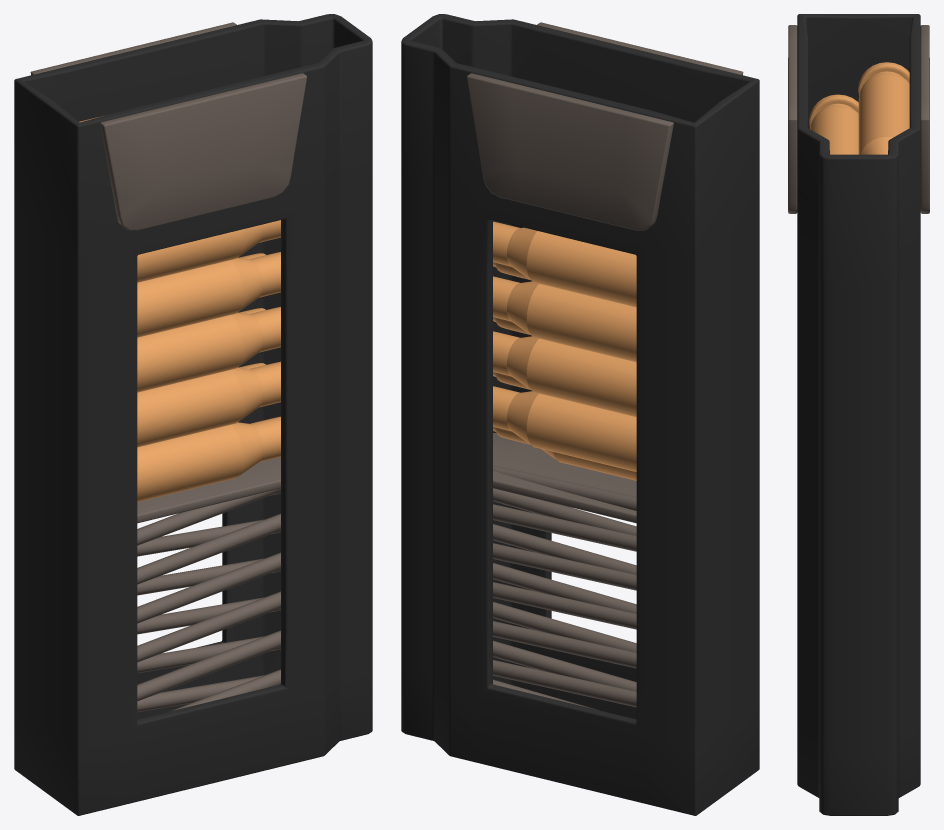
File: magazine_01.fbx
3 renders of one model, left to right at view 1: azimuth 30°, elevation 25°; view 2: azimuth 150°, elevation 25°; view 3: azimuth 270°, elevation 25°, orthographic. The views are drawn at different scales.
Visible parts, largest first — view 1: Cube.083, Circle.144, Cube.084, NurbsPath.001, Cube.085; view 2: Cube.083, Circle.144, NurbsPath.001, Cube.084, Cube.085; view 3: Cube.083, Circle.144, Cube.084.
Boxes of the visible parts, left/top/right/bottom form: Cube.083: left=14, top=14, right=372, bottom=815; Circle.144: left=79, top=115, right=280, bottom=502; Cube.084: left=30, top=22, right=306, bottom=230; NurbsPath.001: left=137, top=488, right=280, bottom=712; Cube.085: left=137, top=457, right=280, bottom=523; Cube.083: left=401, top=14, right=759, bottom=815; Circle.144: left=493, top=221, right=636, bottom=480; NurbsPath.001: left=493, top=465, right=636, bottom=709; Cube.084: left=467, top=22, right=743, bottom=230; Cube.085: left=493, top=432, right=636, bottom=523; Cube.083: left=797, top=14, right=920, bottom=815; Circle.144: left=809, top=62, right=909, bottom=154; Cube.084: left=788, top=25, right=929, bottom=213.
Size of the model in its own units: 22.02 by 46.74 by 9.13.
